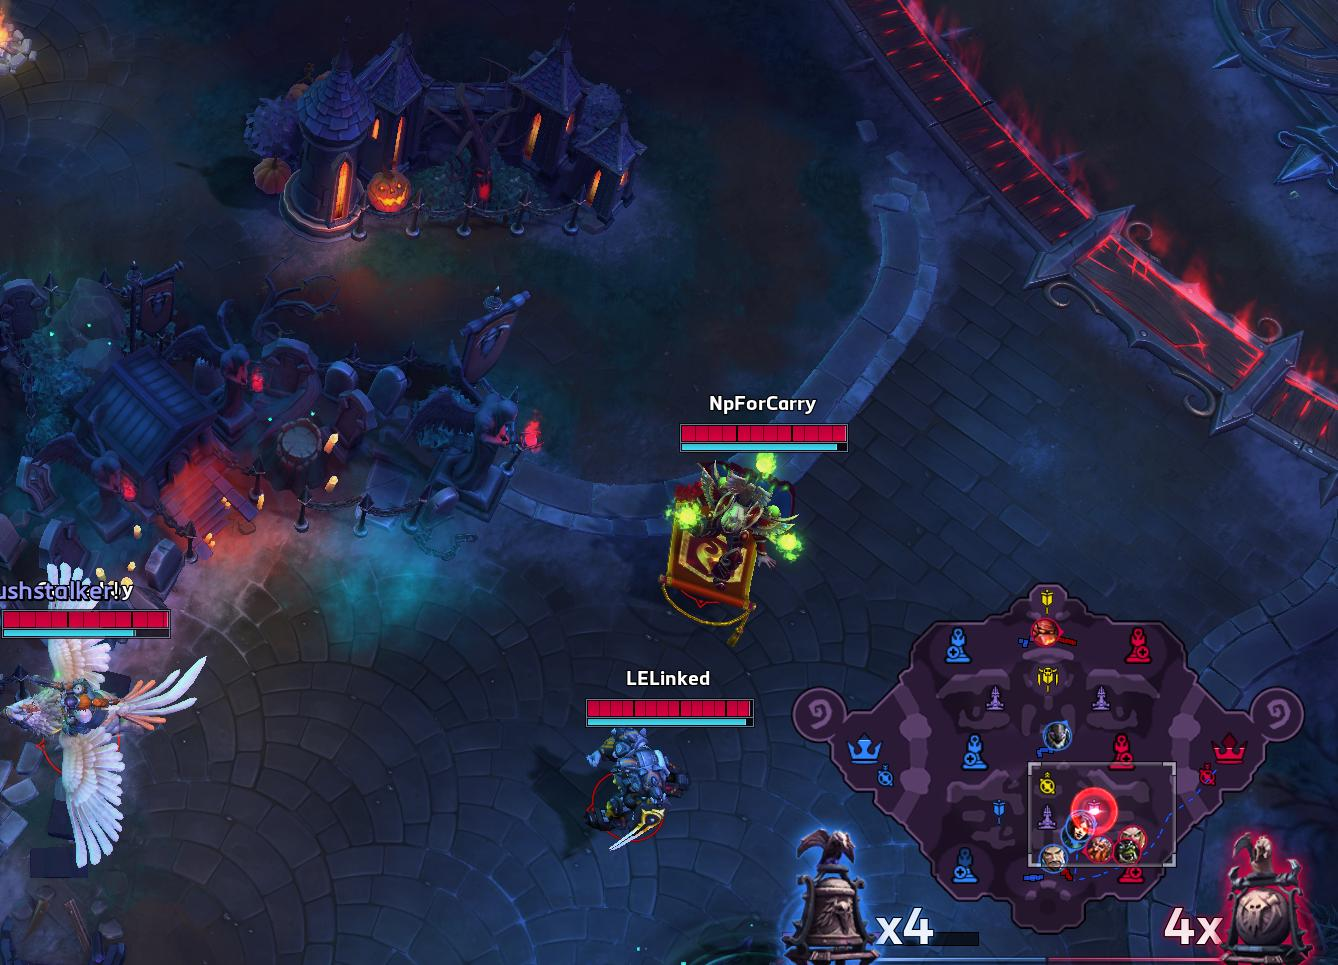blue nexus: (840, 722, 895, 779)
blue player: (1036, 840, 1075, 880), (1040, 716, 1078, 756)
blue tower: (943, 842, 987, 893), (953, 727, 997, 777), (938, 623, 978, 672)
red nexus: (1209, 726, 1260, 775)
red player: (1027, 612, 1069, 651), (1080, 832, 1117, 868), (1111, 836, 1142, 872)
red tower: (1121, 626, 1156, 669), (1107, 733, 1137, 778)
